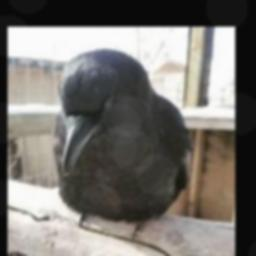Crow: (52, 48, 194, 241)
